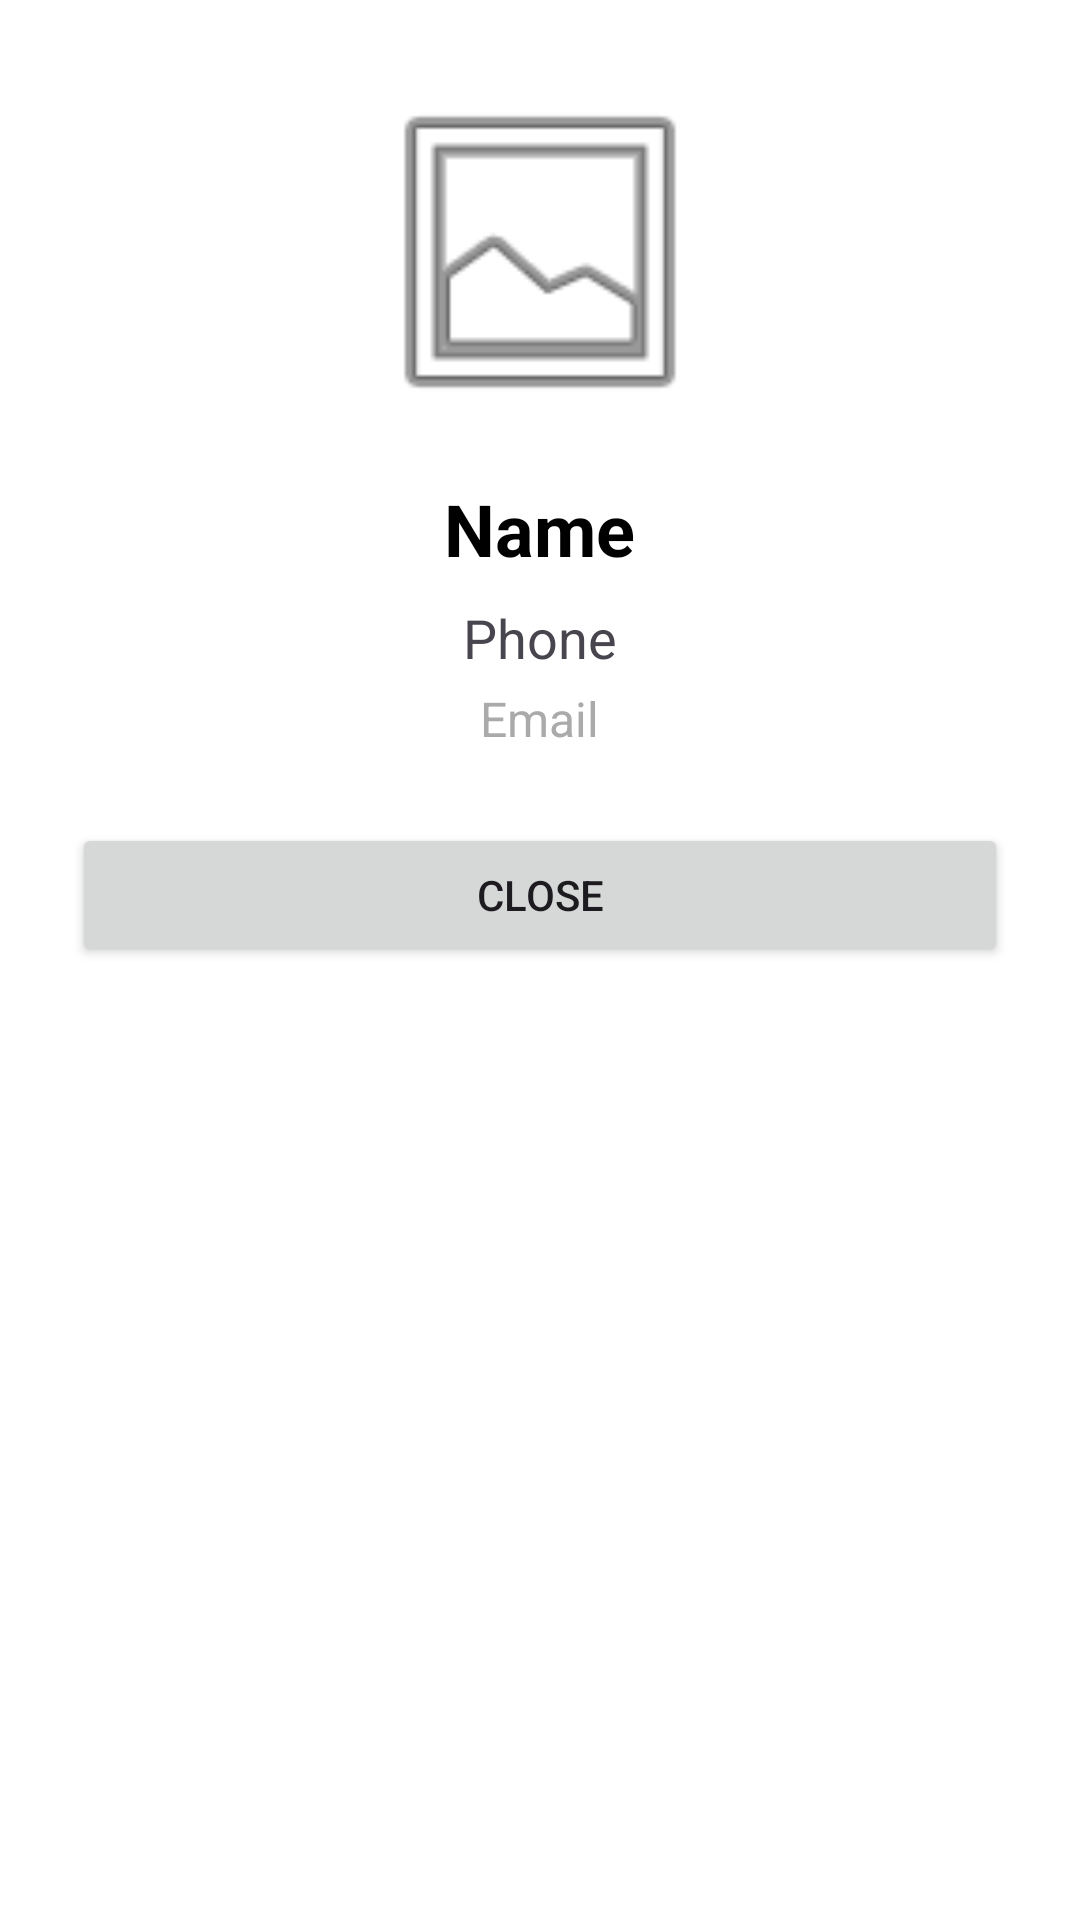

Point at icon controls on the screen. Image size 1080px×1920px, points as (x,y).
gallery: (540,252)
